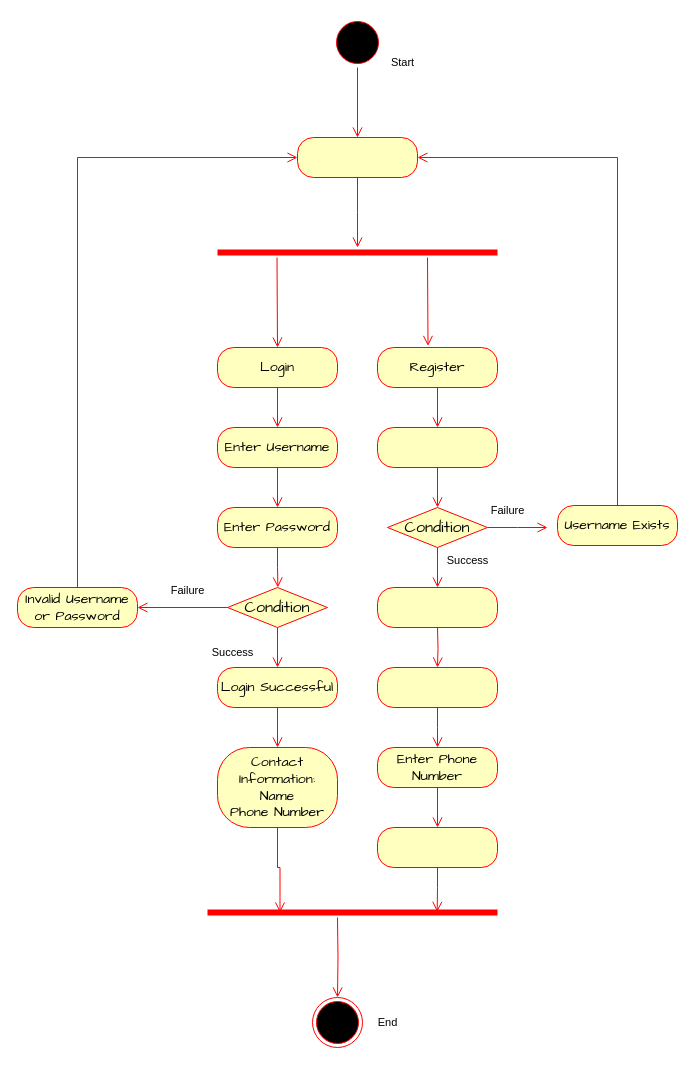
This 695x1065 diagram has some shape labels left out. Each missing label, with the centre of its shape:
"Enter a Password" goes at (437,607).
"Enter a Username" goes at (437,447).
"Enter Full Name" goes at (437,687).
"Initial Interface" goes at (357,157).
"Registration Done" goes at (437,847).
